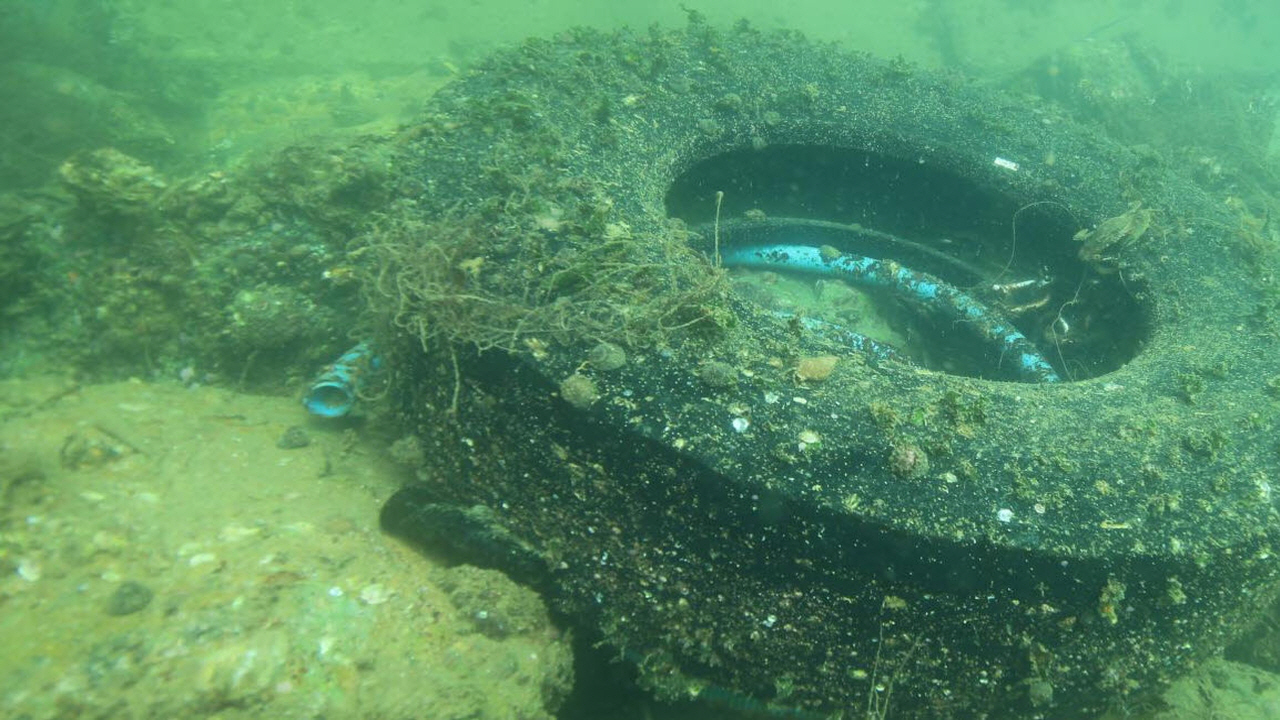tire: (404, 25, 1280, 720)
